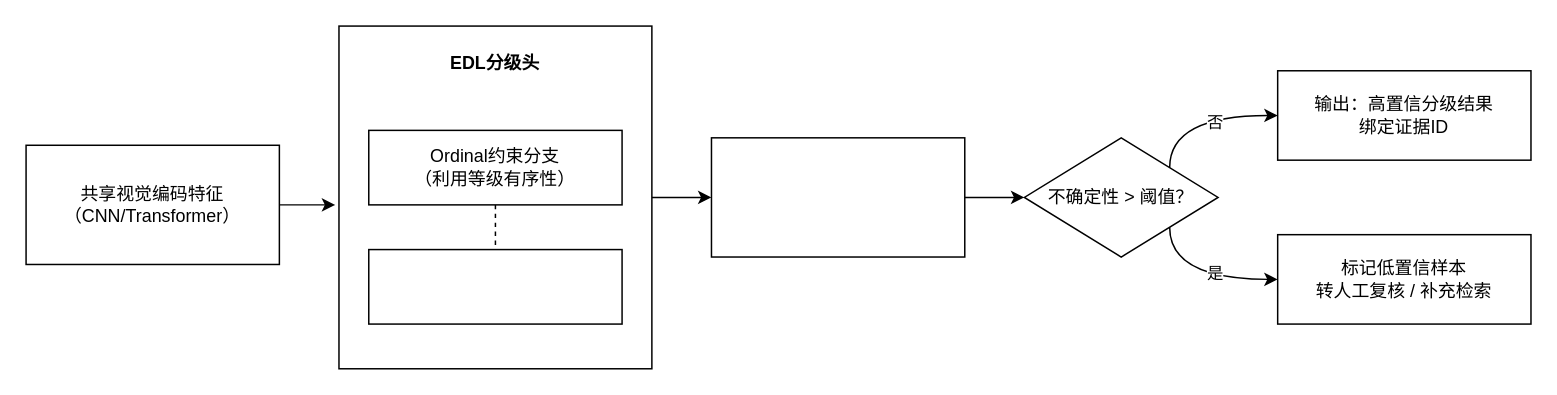
This 1557x395 diagram has some shape labels left out. Here are the shapes that lost their labels. From the top down, the centre of each, then its label:
At (837,196): "Dirichlet参数α = ek + 1 概率pk/证据强度/不确定性u".
At (494,286): "EDL证据头 （输出各类证据量）".
